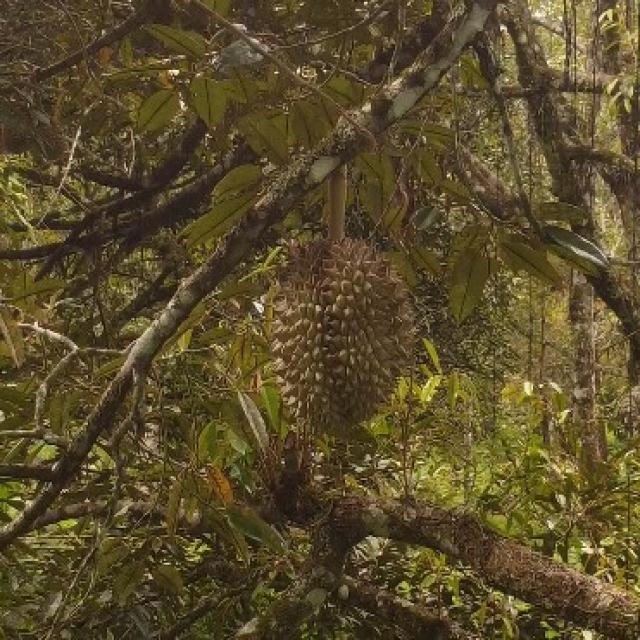mature: (271, 232, 417, 428)
